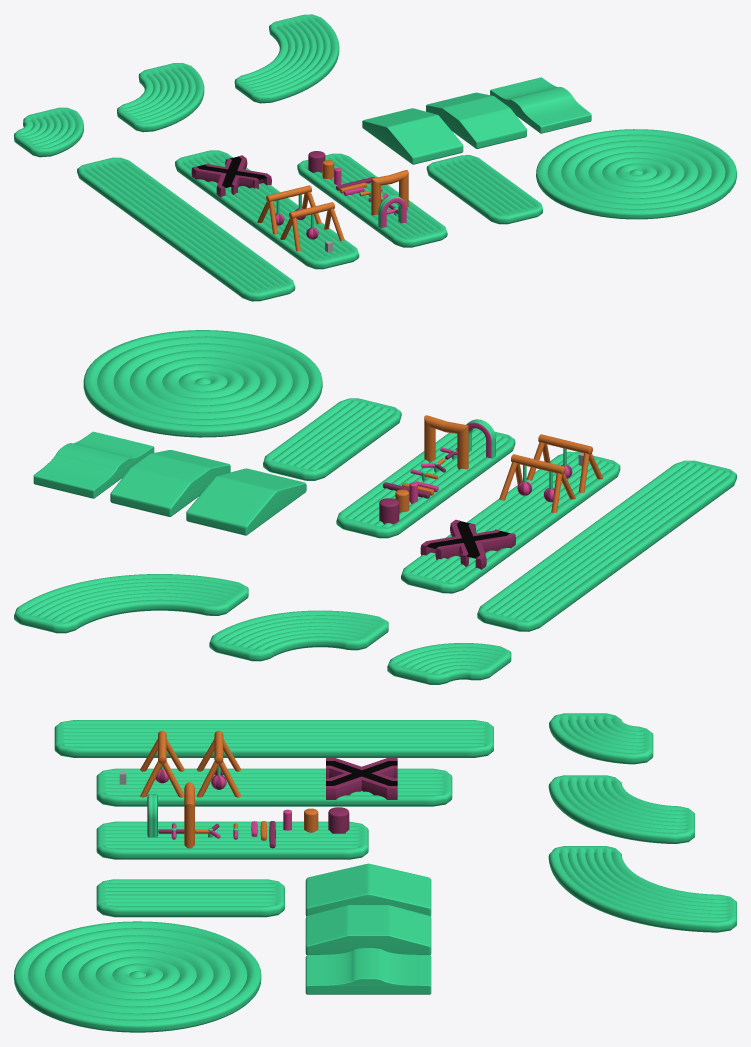
Rendered from Level Parts Final.fbx.
3 views of the same model, one above another, from view 1: azimuth 30°, elevation 25°; view 2: azimuth 150°, elevation 25°; view 3: azimuth 270°, elevation 25° (orthographic). The views are drawn at different scales.
Parts seen in each view (by area): view 1: Circular_Arena, Straight_Extra_Long, Straight_Long, Turn_Long, Straight_Medium, Straight_Short, Turn_Medium, Hill_Sharp_Small, Hill_Obtuse_Small, Hill_Curvy, Turn_Short, X_Tunnel (+4 smaller); view 2: Circular_Arena, Straight_Extra_Long, Turn_Long, Straight_Long, Turn_Medium, Straight_Medium, Straight_Short, Hill_Sharp_Small, Hill_Obtuse_Small, Hill_Curvy, Turn_Short, X_Tunnel (+4 smaller); view 3: Circular_Arena, Straight_Extra_Long, Straight_Long, Straight_Medium, Turn_Long, Straight_Short, Turn_Medium, Hill_Obtuse_Small, Hill_Curvy, Hill_Sharp_Small, Turn_Short, X_Tunnel (+4 smaller).
Boxes of the visible parts, bbox=[...] form: Circular_Arena: bbox=[536, 129, 736, 219]; Straight_Extra_Long: bbox=[77, 157, 295, 301]; Straight_Long: bbox=[175, 150, 359, 269]; Turn_Long: bbox=[234, 14, 339, 103]; Straight_Medium: bbox=[297, 153, 447, 247]; Straight_Short: bbox=[426, 155, 542, 224]; Turn_Medium: bbox=[117, 63, 204, 132]; Hill_Sharp_Small: bbox=[362, 108, 463, 164]; Hill_Obtuse_Small: bbox=[426, 92, 526, 148]; Hill_Curvy: bbox=[490, 77, 591, 133]; Turn_Short: bbox=[14, 107, 83, 157]; X_Tunnel: bbox=[191, 155, 271, 197]; Circular_Arena: bbox=[83, 330, 322, 437]; Straight_Extra_Long: bbox=[477, 460, 736, 631]; Turn_Long: bbox=[14, 574, 248, 633]; Straight_Long: bbox=[401, 451, 620, 593]; Turn_Medium: bbox=[209, 610, 388, 661]; Straight_Medium: bbox=[336, 428, 515, 538]; Straight_Short: bbox=[263, 398, 401, 480]; Hill_Sharp_Small: bbox=[186, 468, 306, 535]; Hill_Obtuse_Small: bbox=[110, 450, 230, 516]; Hill_Curvy: bbox=[33, 431, 154, 498]; Turn_Short: bbox=[387, 643, 511, 684]; X_Tunnel: bbox=[420, 519, 515, 569]; Circular_Arena: bbox=[14, 921, 261, 1032]; Straight_Extra_Long: bbox=[54, 720, 493, 757]; Straight_Long: bbox=[96, 768, 452, 806]; Straight_Medium: bbox=[96, 821, 368, 859]; Turn_Long: bbox=[548, 846, 736, 932]; Straight_Short: bbox=[96, 879, 284, 917]; Turn_Medium: bbox=[548, 775, 694, 843]; Hill_Obtuse_Small: bbox=[305, 905, 431, 955]; Hill_Curvy: bbox=[305, 948, 431, 994]; Hill_Sharp_Small: bbox=[305, 863, 431, 916]; Turn_Short: bbox=[549, 713, 653, 764]; X_Tunnel: bbox=[326, 758, 397, 799].
Size of the model in its own units: 70.5 by 5.56 by 69.1.
Materials: 28 (27 with a texture image).
